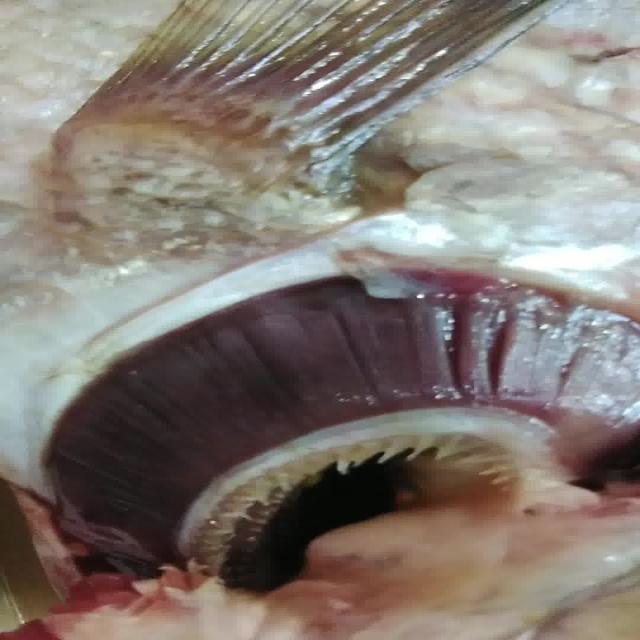Non-Fresh: (57, 250, 630, 578)
